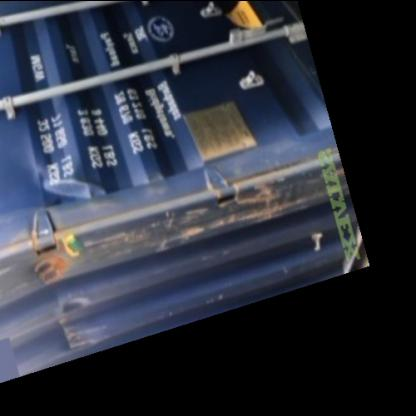Damage: (140, 163, 326, 247), (11, 230, 82, 278), (54, 286, 99, 354), (34, 170, 110, 199)
